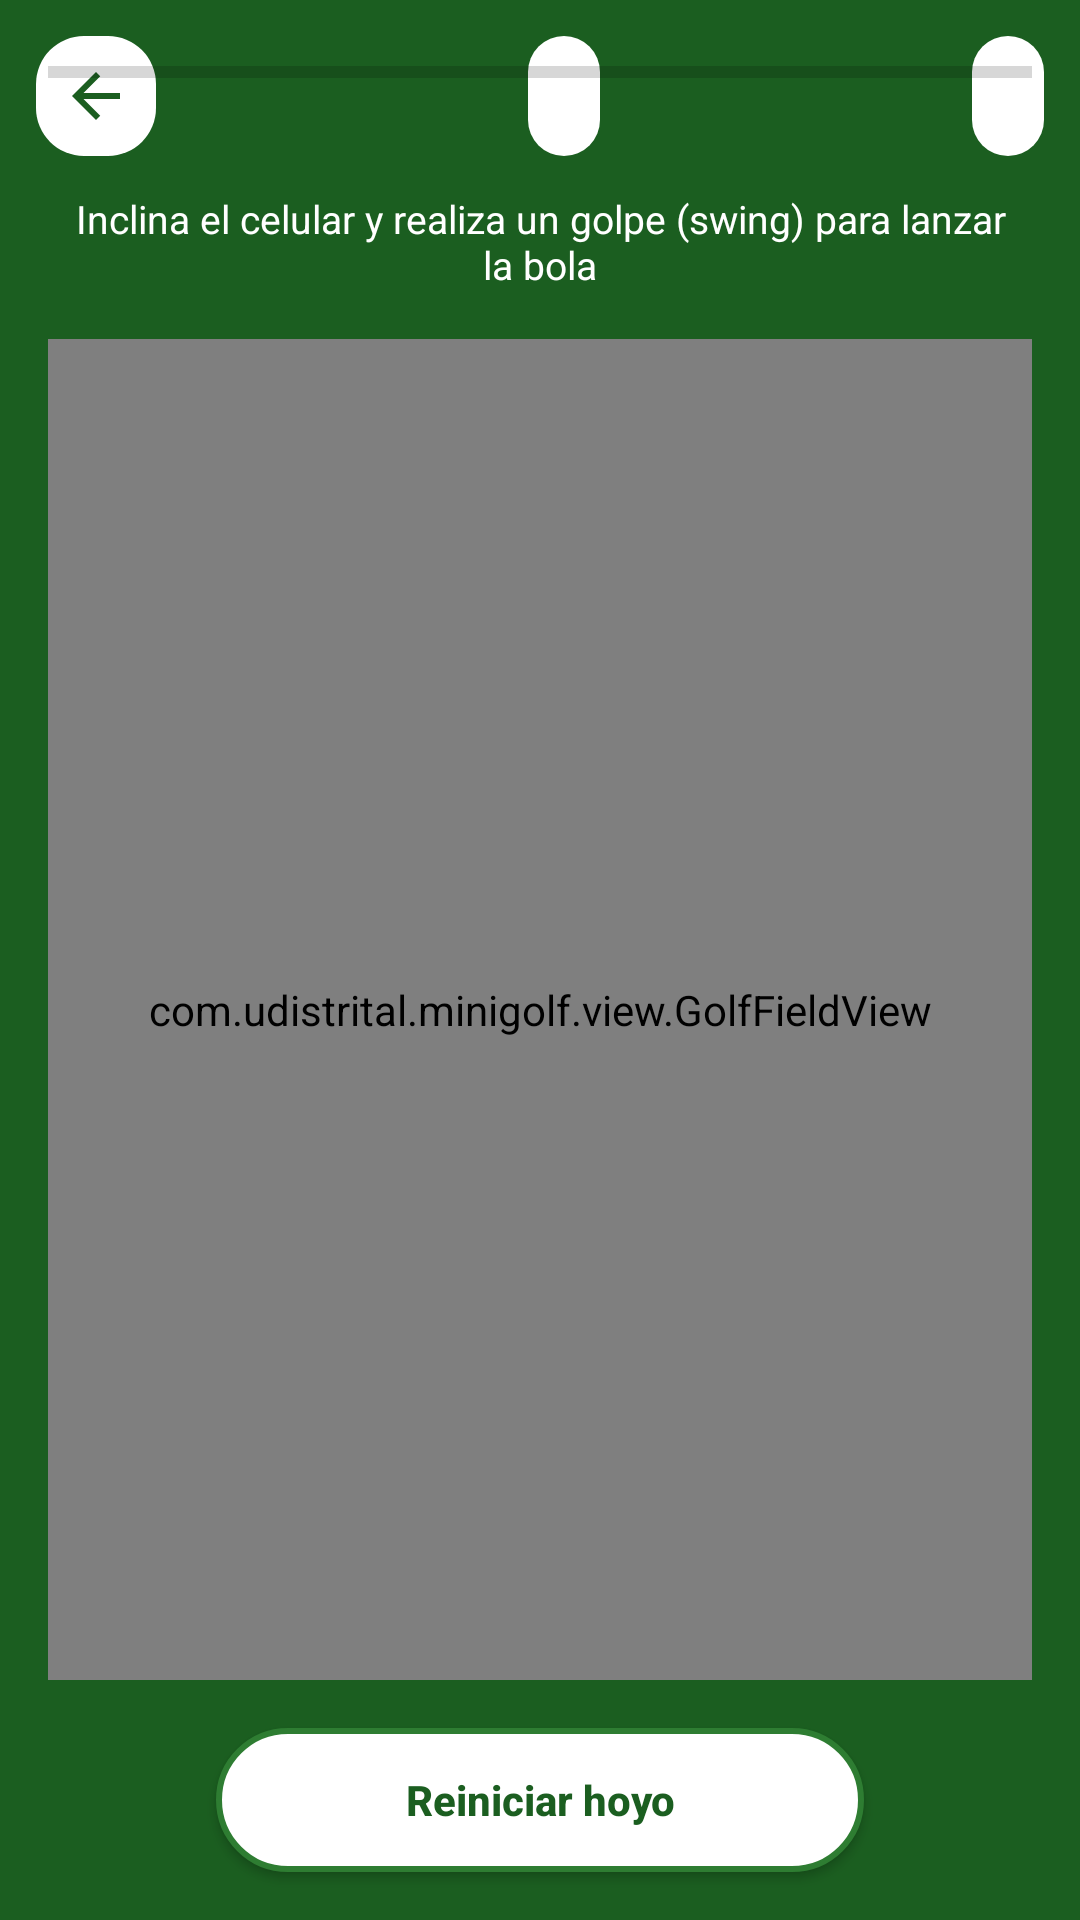

Where icons sit on this 1080px×1920px app screen, as rect(x1, y1, x2, y2):
Volver al menú: rect(36, 36, 156, 156)
